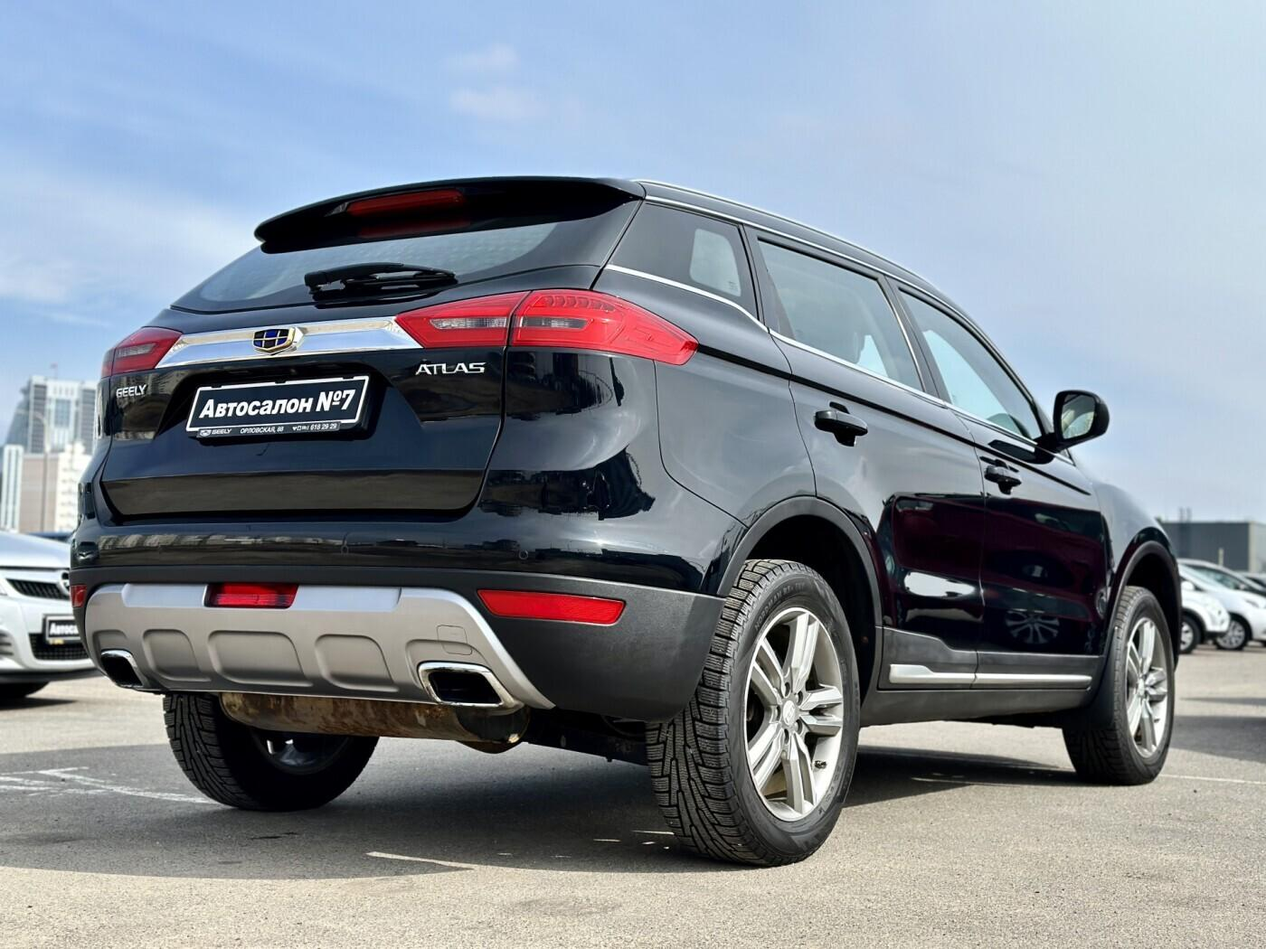Atlas_2016-2023: (54, 174, 1196, 865)
